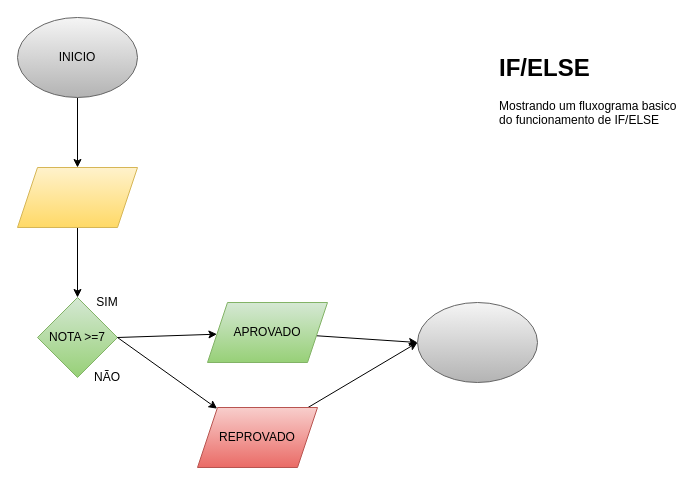
Some shapes in this 695 by 485 pixel diagram are drawn without their labels. The shapes that lost their labels are listed below. From the top down, each one's box as (x1, y1, x2, y2) in pixels, then its label:
(16, 166, 138, 228): NOTA
(416, 302, 538, 382): FIM
